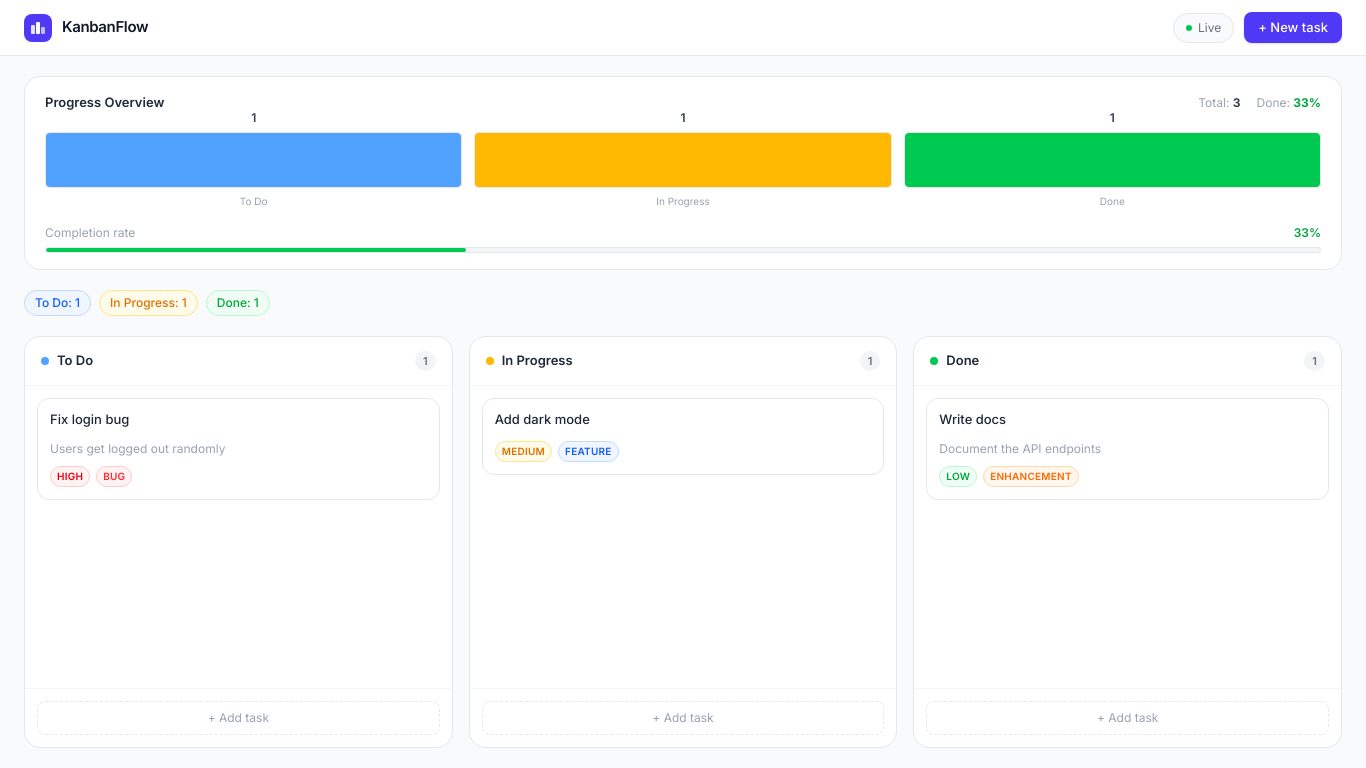
Scenario: KanbanBoard › closes modal when cancel is clicked
Click the button with test id "add-task-btn" at (1293, 28), box [1244, 12, 1342, 43]
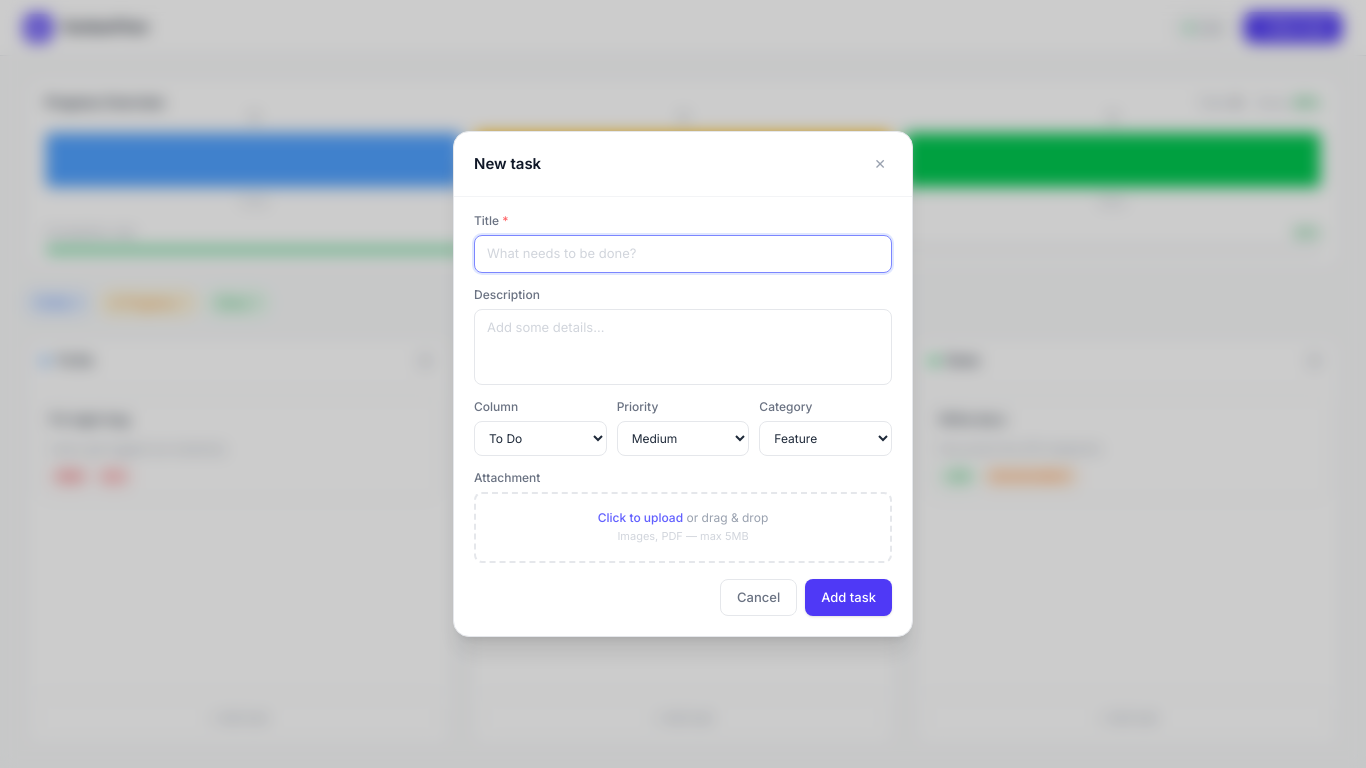
Expected: the element with test id "modal-backdrop" is shown
Click the button "Cancel" at (759, 597), box [720, 578, 797, 616]
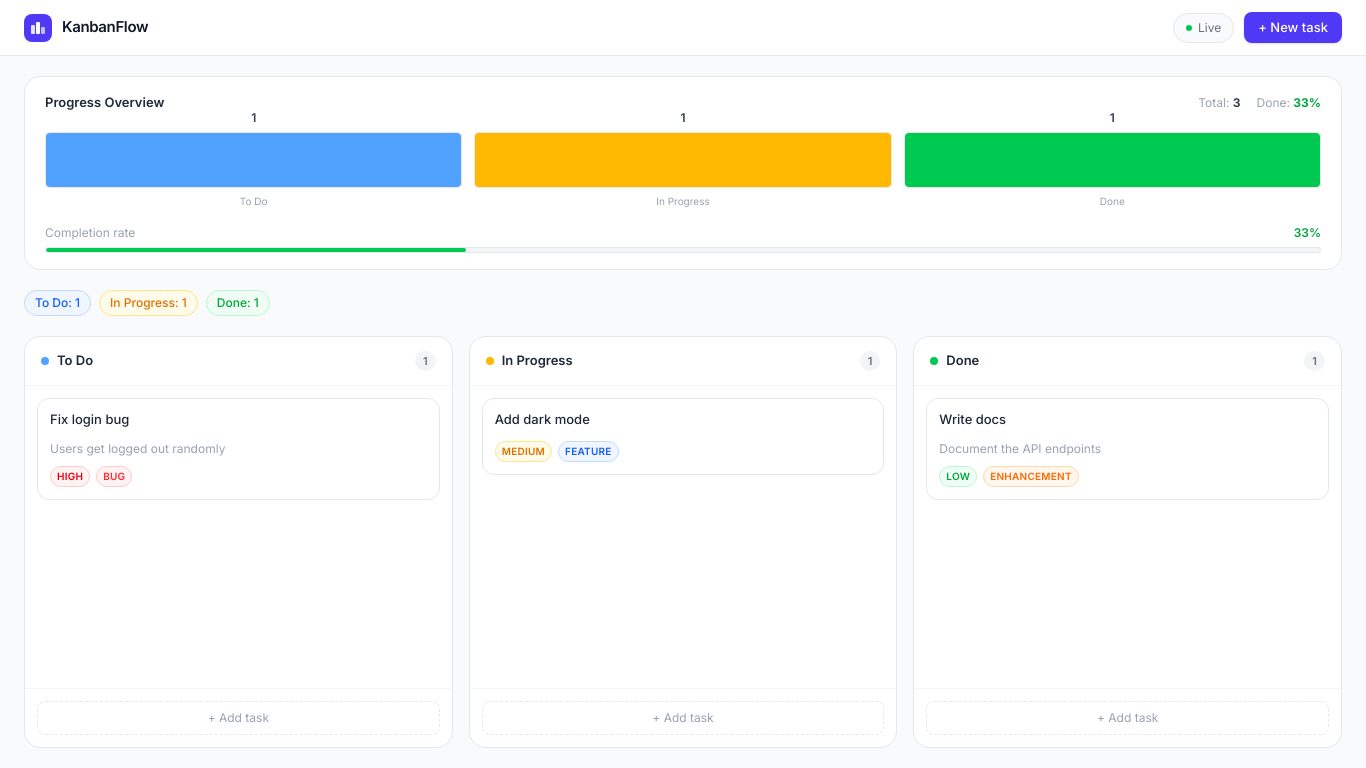
Expected: the element with test id "modal-backdrop" is gone
